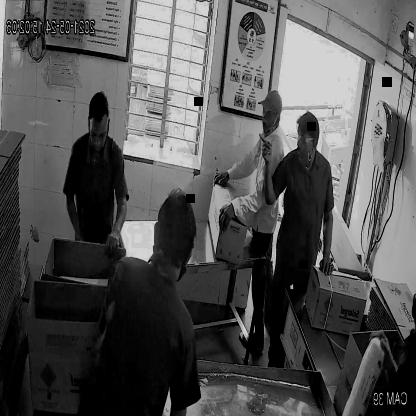goggles: (86, 122, 112, 147), (292, 129, 321, 150)
no_goggles: (260, 104, 282, 123)
